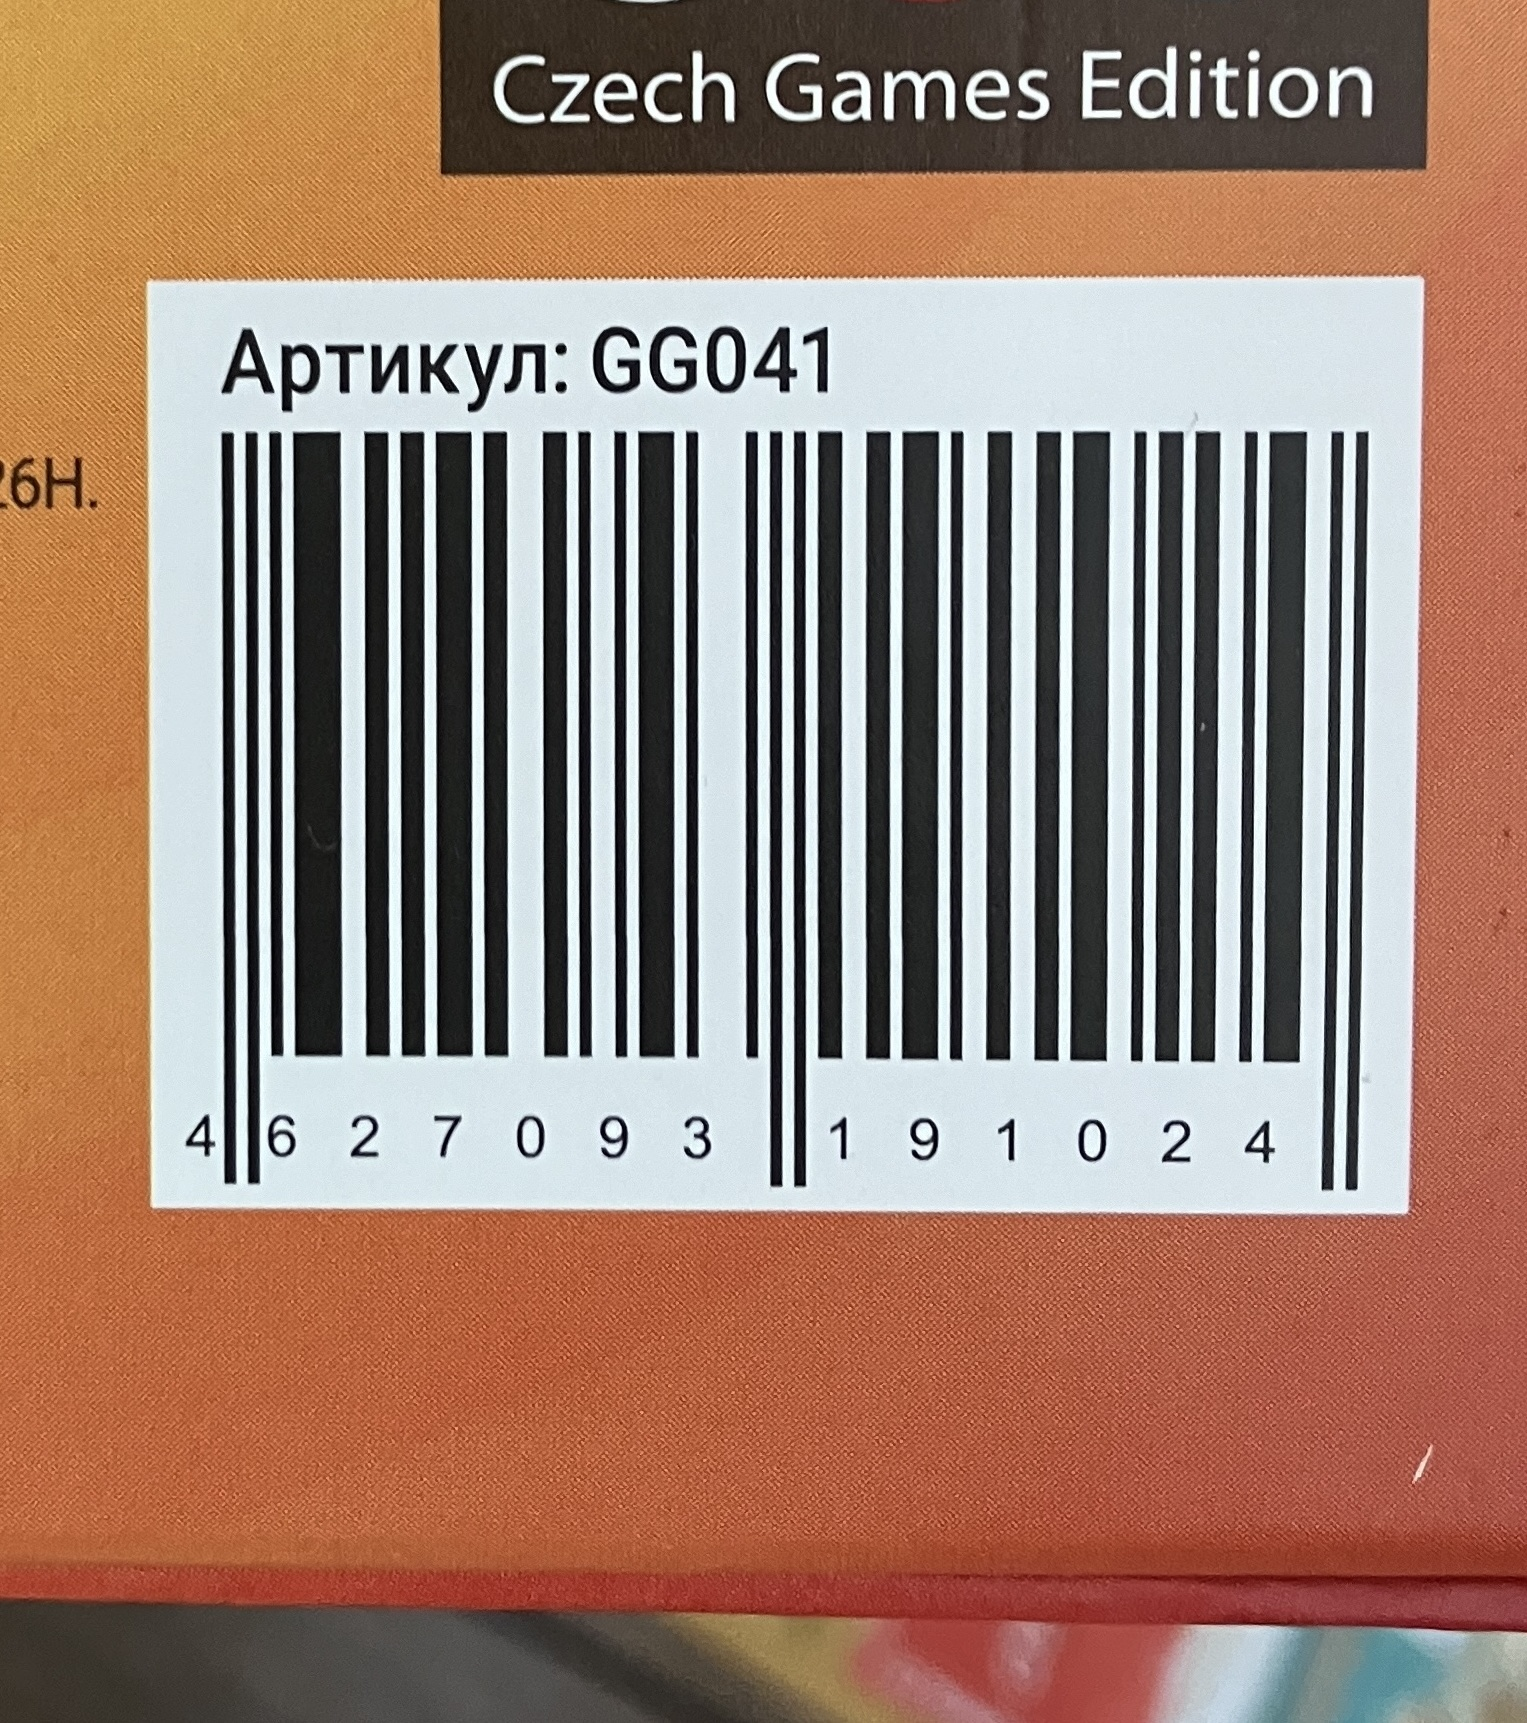1d: (221, 430, 1369, 1186)
